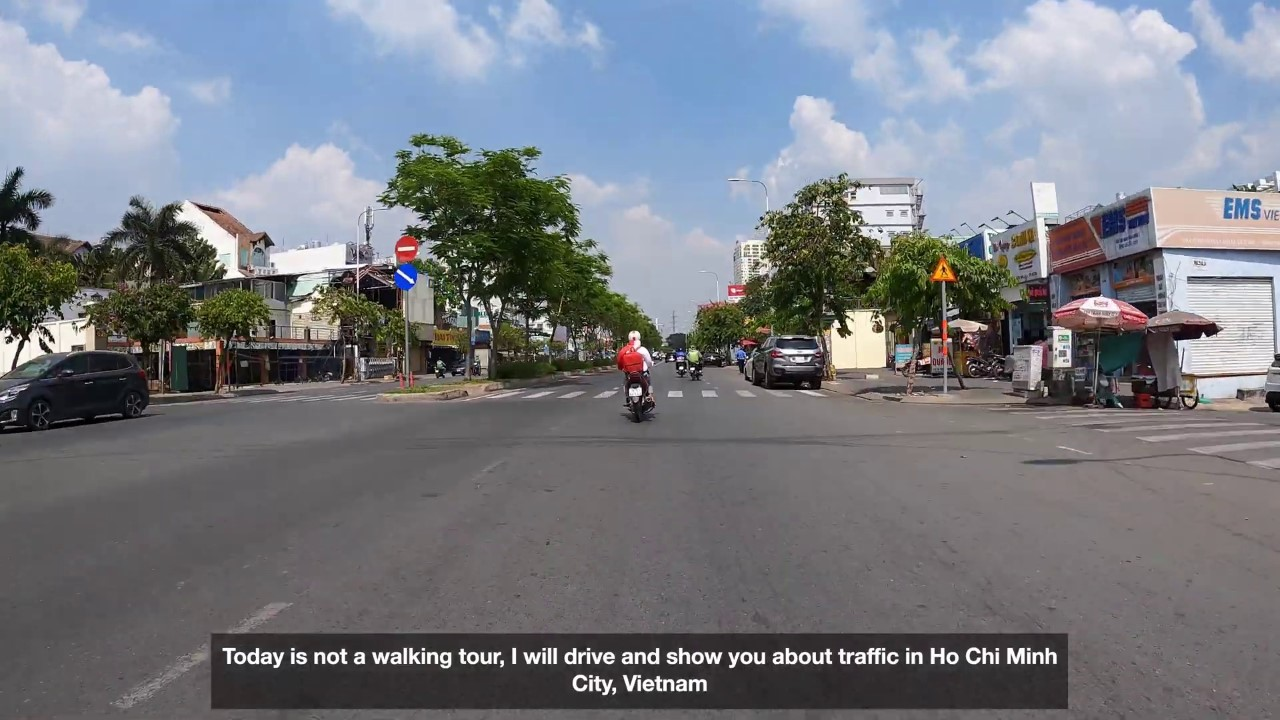cam_nguoc_chieu: (395, 236, 418, 263)
can_than_nguoi_qua_duong: (929, 256, 957, 282)
huong_phai_di_vong: (393, 264, 418, 290)
